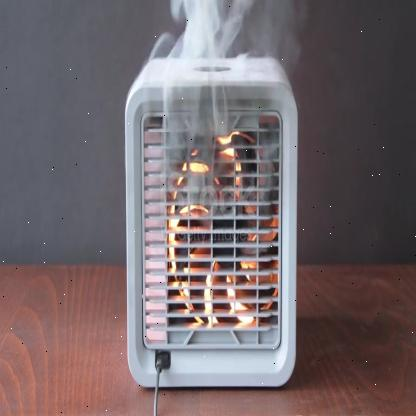smoke: (131, 6, 311, 208)
